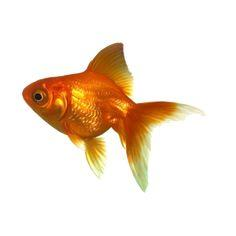goldfish: (12, 44, 180, 178)
